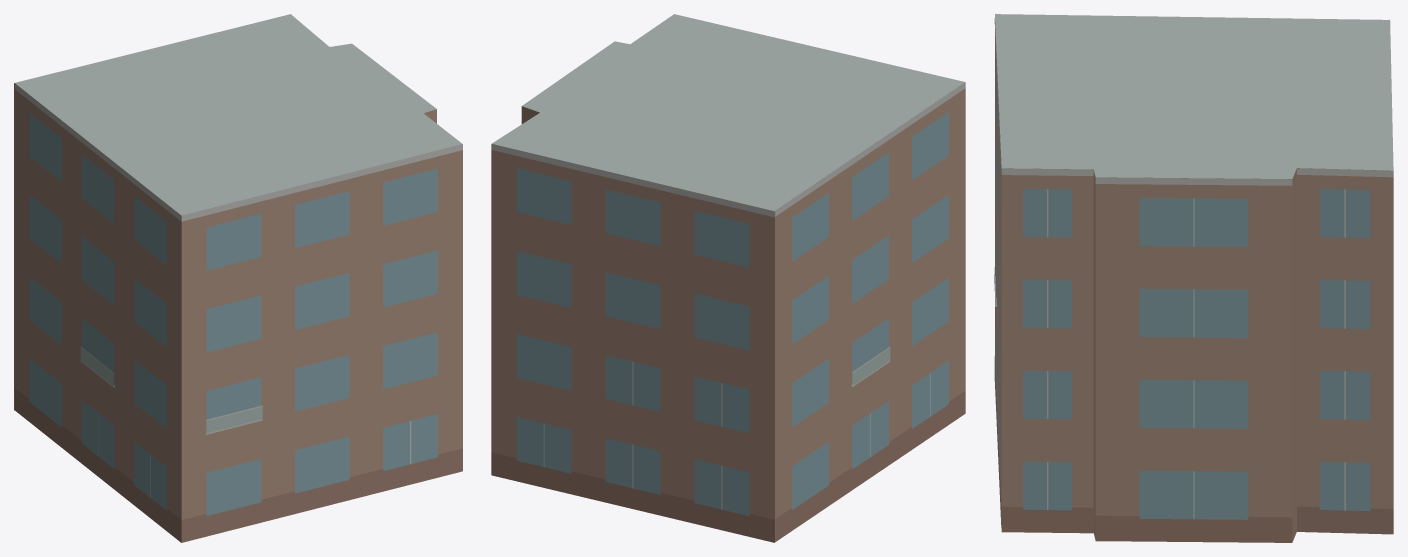
File: survey-upis-32786446.glb
3 views of the same model, side by side, from view 1: azimuth 30°, elevation 25°; view 2: azimuth 150°, elevation 25°; view 3: azimuth 270°, elevation 25° (orthographic). The views are drawn at different scales.
Parts seen in each view (by area): view 1: survey-upis-32786446.tmp; view 2: survey-upis-32786446.tmp; view 3: survey-upis-32786446.tmp.
Boxes of the visible parts, box(x1,y1,x2,y2) form: survey-upis-32786446.tmp: box(14, 14, 462, 542); survey-upis-32786446.tmp: box(491, 14, 965, 542); survey-upis-32786446.tmp: box(994, 14, 1393, 542).
Size of the model in its own units: 12.86 by 13.2 by 13.14.
